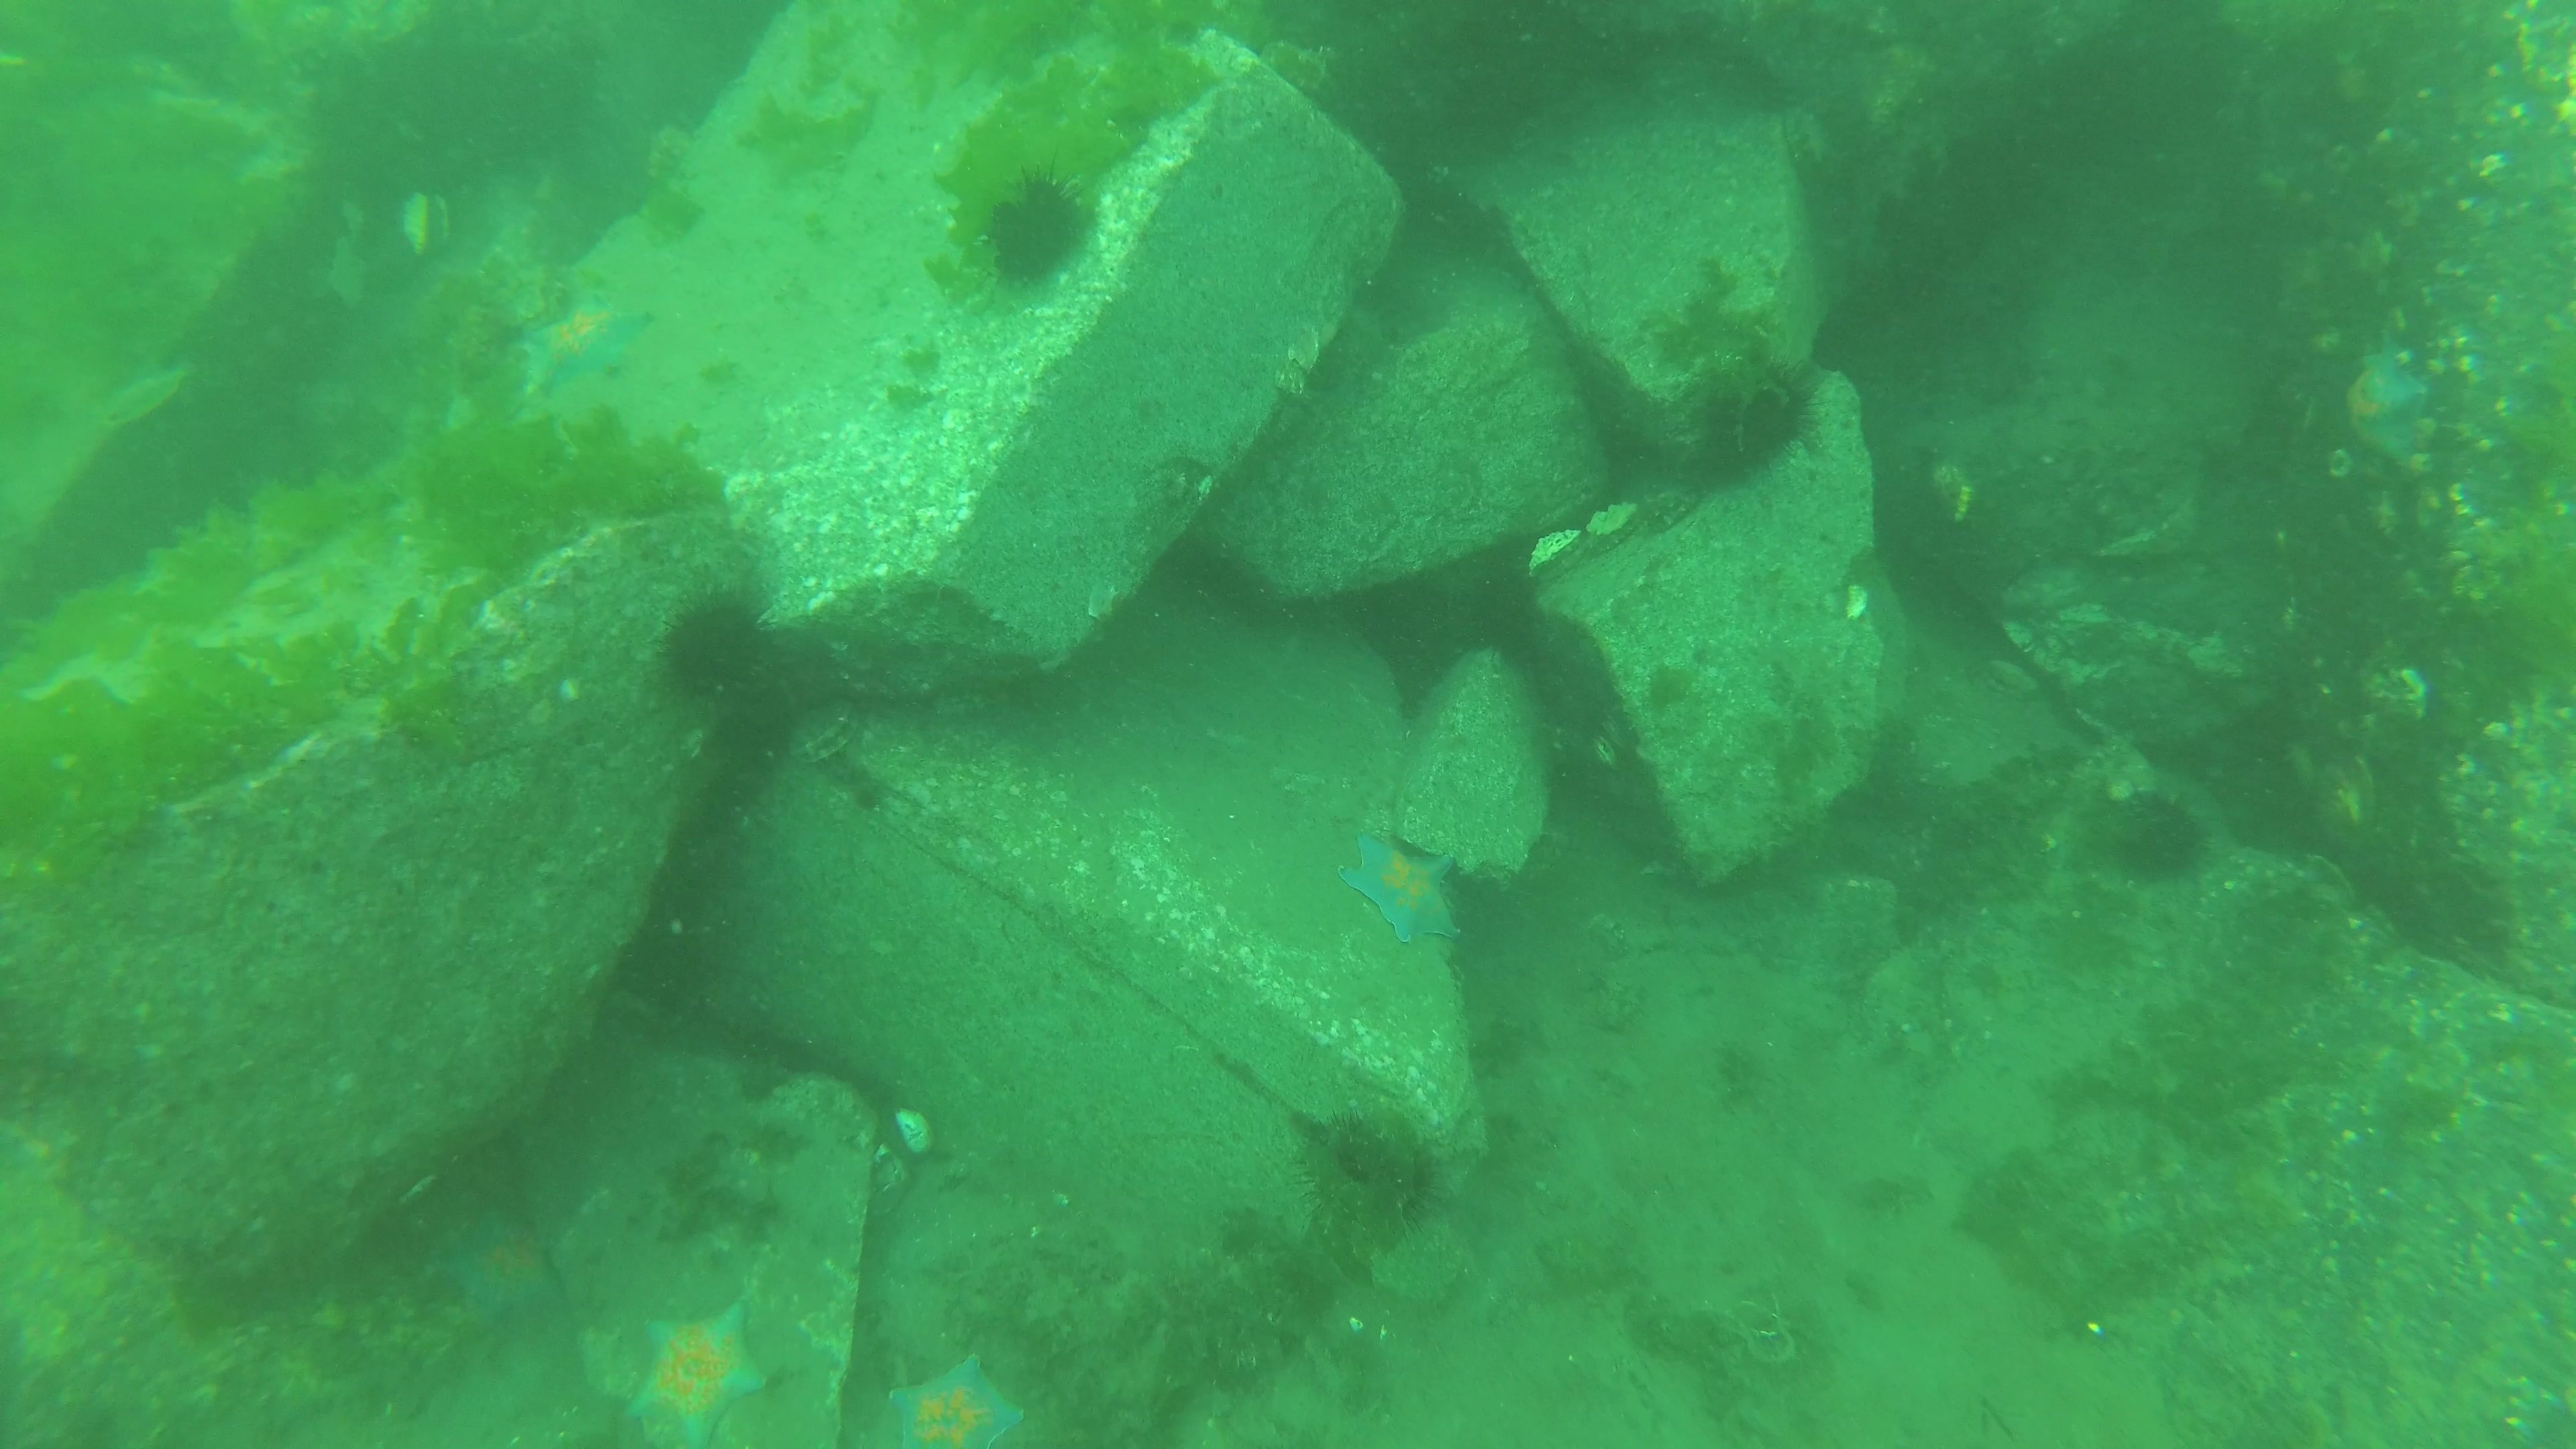echinus: (1295, 1118, 1442, 1233), (978, 156, 1097, 288), (655, 591, 780, 706), (1695, 356, 1815, 469), (2102, 789, 2215, 892), (1476, 563, 1543, 671)
starfish: (621, 1300, 773, 1449), (1343, 832, 1461, 947), (892, 1350, 1028, 1449), (449, 1212, 564, 1327), (510, 297, 642, 395), (2348, 350, 2431, 469)
